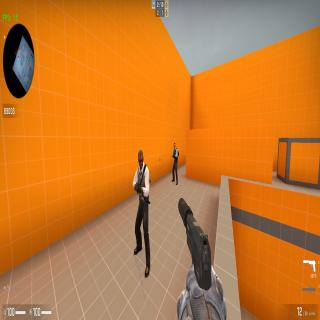T-Body: (133, 149, 151, 278), (172, 142, 178, 185)
T-Head: (138, 149, 144, 169), (174, 142, 176, 150)
